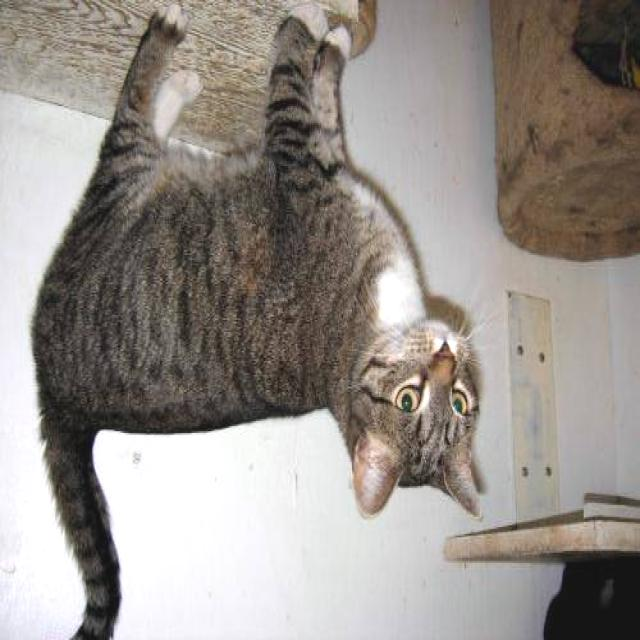Kucing: (12, 0, 517, 640)
